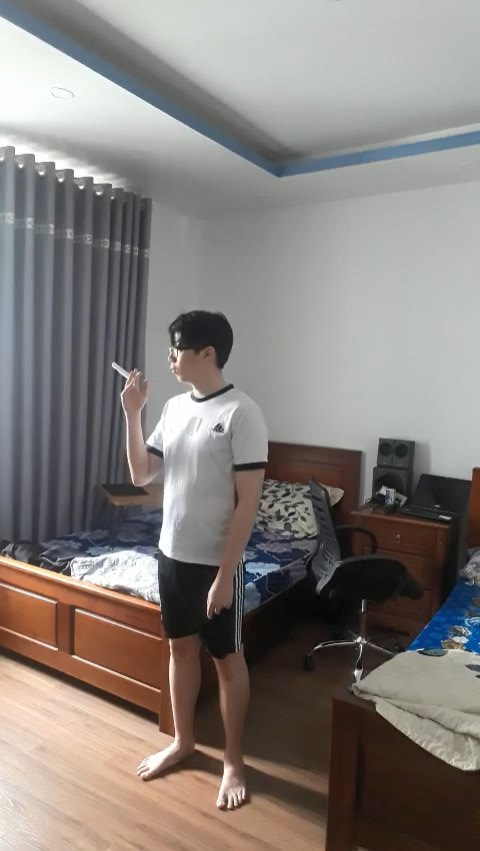cigarette: (112, 360, 130, 380)
person: (114, 308, 279, 810)
